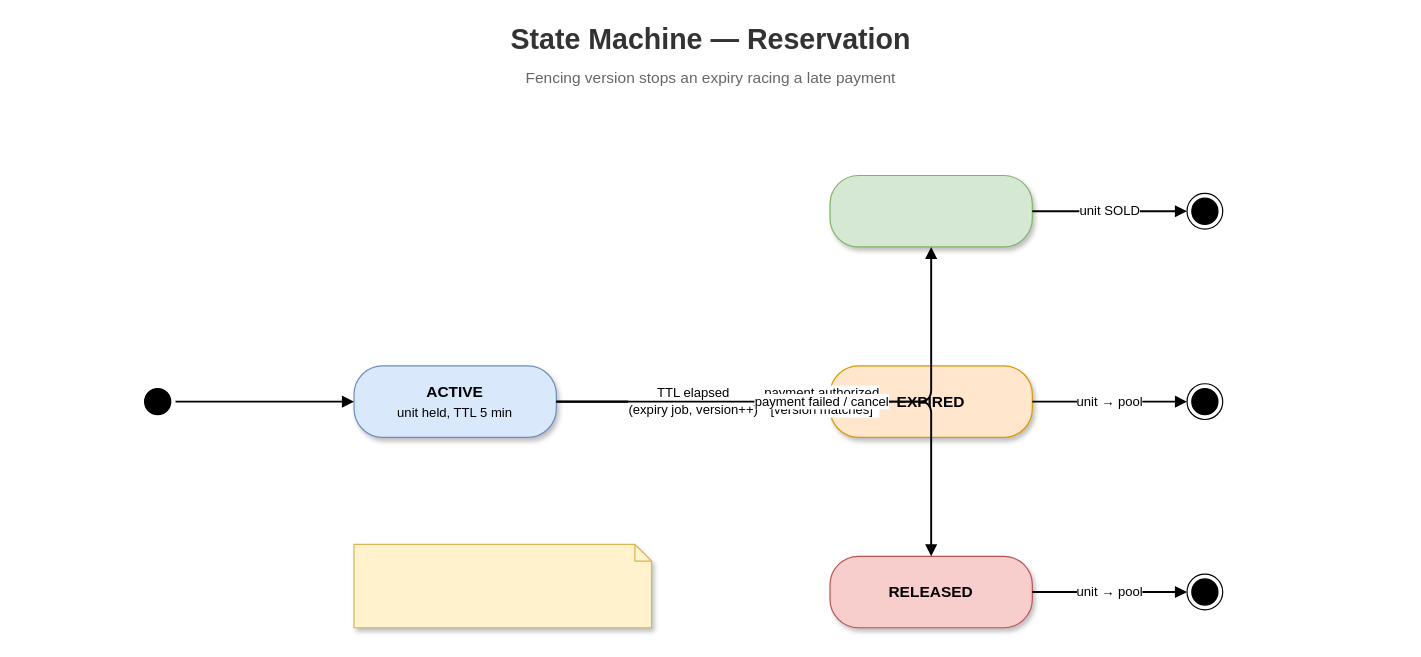
Image size: 1421x657. Some labels were removed from this diagram. The shapes that lost their labels are listed below. From the top down, each one's centre as x and y in pixels, then its label:
At pixel 931 212: "CONFIRMED".
At pixel 503 587: "Late payment hits EXPIRED → version mismatch → void authorization".
